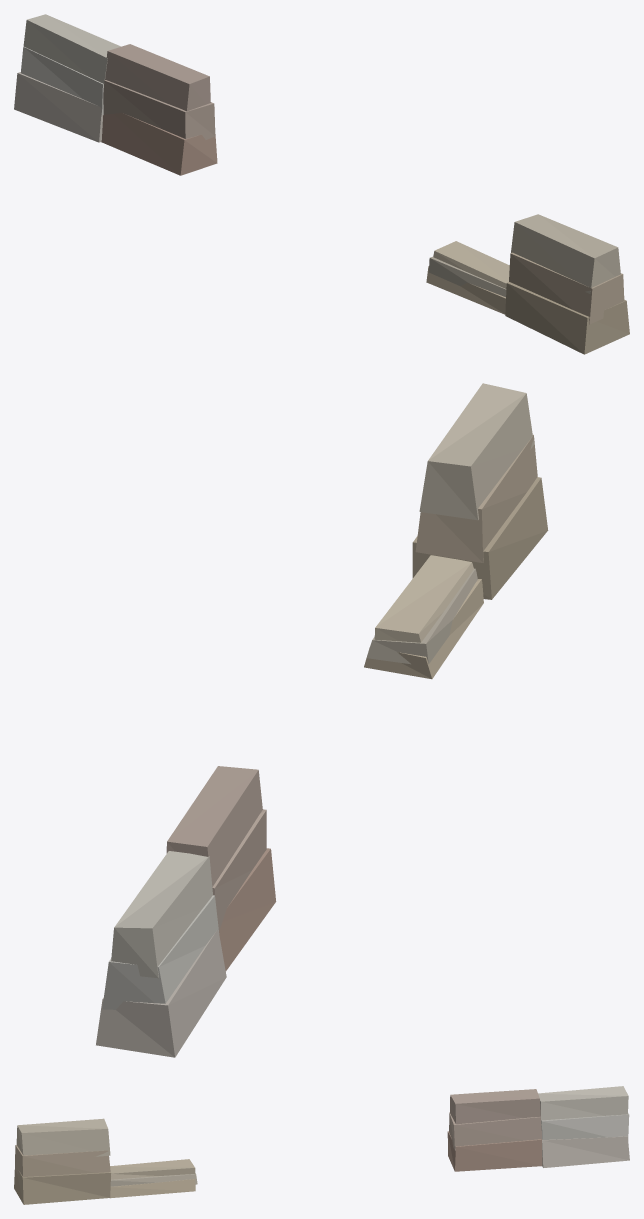
Rendered from farm_-1_14_mid.glb.
The picture shows the model from 3 angles, top to bottom: view 1: azimuth 30°, elevation 25°; view 2: azimuth 150°, elevation 25°; view 3: azimuth 270°, elevation 25°; orthographic projection. The views are drawn at different scales.
Parts seen in each view (by area): view 1: geometry_0; view 2: geometry_0; view 3: geometry_0.
Boxes of the visible parts, x1=… form: geometry_0: x1=14, y1=14, x2=629, y2=354; geometry_0: x1=96, y1=383, x2=548, y2=1057; geometry_0: x1=14, y1=1086, x2=629, y2=1204.
Size of the model in its own units: 3.1 by 1.56 by 10.62.
